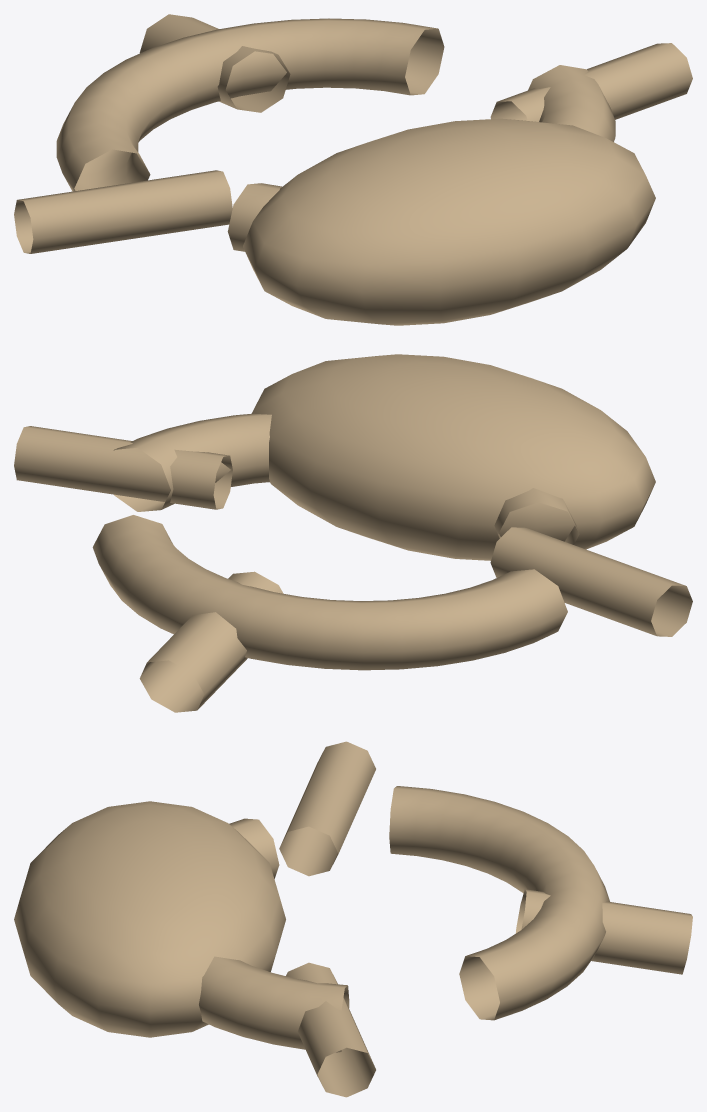
3 renders of one model, top to bottom at view 1: azimuth 30°, elevation 25°; view 2: azimuth 150°, elevation 25°; view 3: azimuth 270°, elevation 25°, orthographic. The views are drawn at different scales.
Parts seen in each view (by area): view 1: t12:centrum, t12:neural-arch--1, t12:transverse--1, t12:transverse-1, t12:neural-arch-1, t12:spinous-process; view 2: t12:centrum, t12:neural-arch--1, t12:transverse-1, t12:transverse--1, t12:neural-arch-1, t12:spinous-process; view 3: t12:centrum, t12:neural-arch--1, t12:neural-arch-1, t12:transverse--1, t12:spinous-process, t12:transverse-1.
Boxes of the visible parts, x1,y1,x2,y2 form: t12:centrum: [243, 118, 655, 325]; t12:neural-arch--1: [56, 18, 444, 191]; t12:transverse--1: [14, 170, 232, 253]; t12:transverse-1: [490, 43, 692, 121]; t12:neural-arch-1: [227, 65, 615, 251]; t12:spinous-process: [139, 14, 290, 112]; t12:centrum: [252, 354, 655, 560]; t12:neural-arch--1: [92, 515, 567, 670]; t12:transverse-1: [14, 426, 232, 509]; t12:transverse--1: [490, 527, 692, 636]; t12:neural-arch-1: [113, 413, 579, 544]; t12:spinous-process: [139, 571, 283, 712]; t12:centrum: [14, 801, 285, 1037]; t12:neural-arch--1: [389, 786, 609, 1020]; t12:neural-arch-1: [199, 818, 349, 1052]; t12:transverse--1: [279, 741, 375, 876]; t12:spinous-process: [515, 889, 692, 974]; t12:transverse-1: [286, 962, 375, 1097].
Size of the model in its own units: 0.1634 by 0.0365 by 0.1505.
